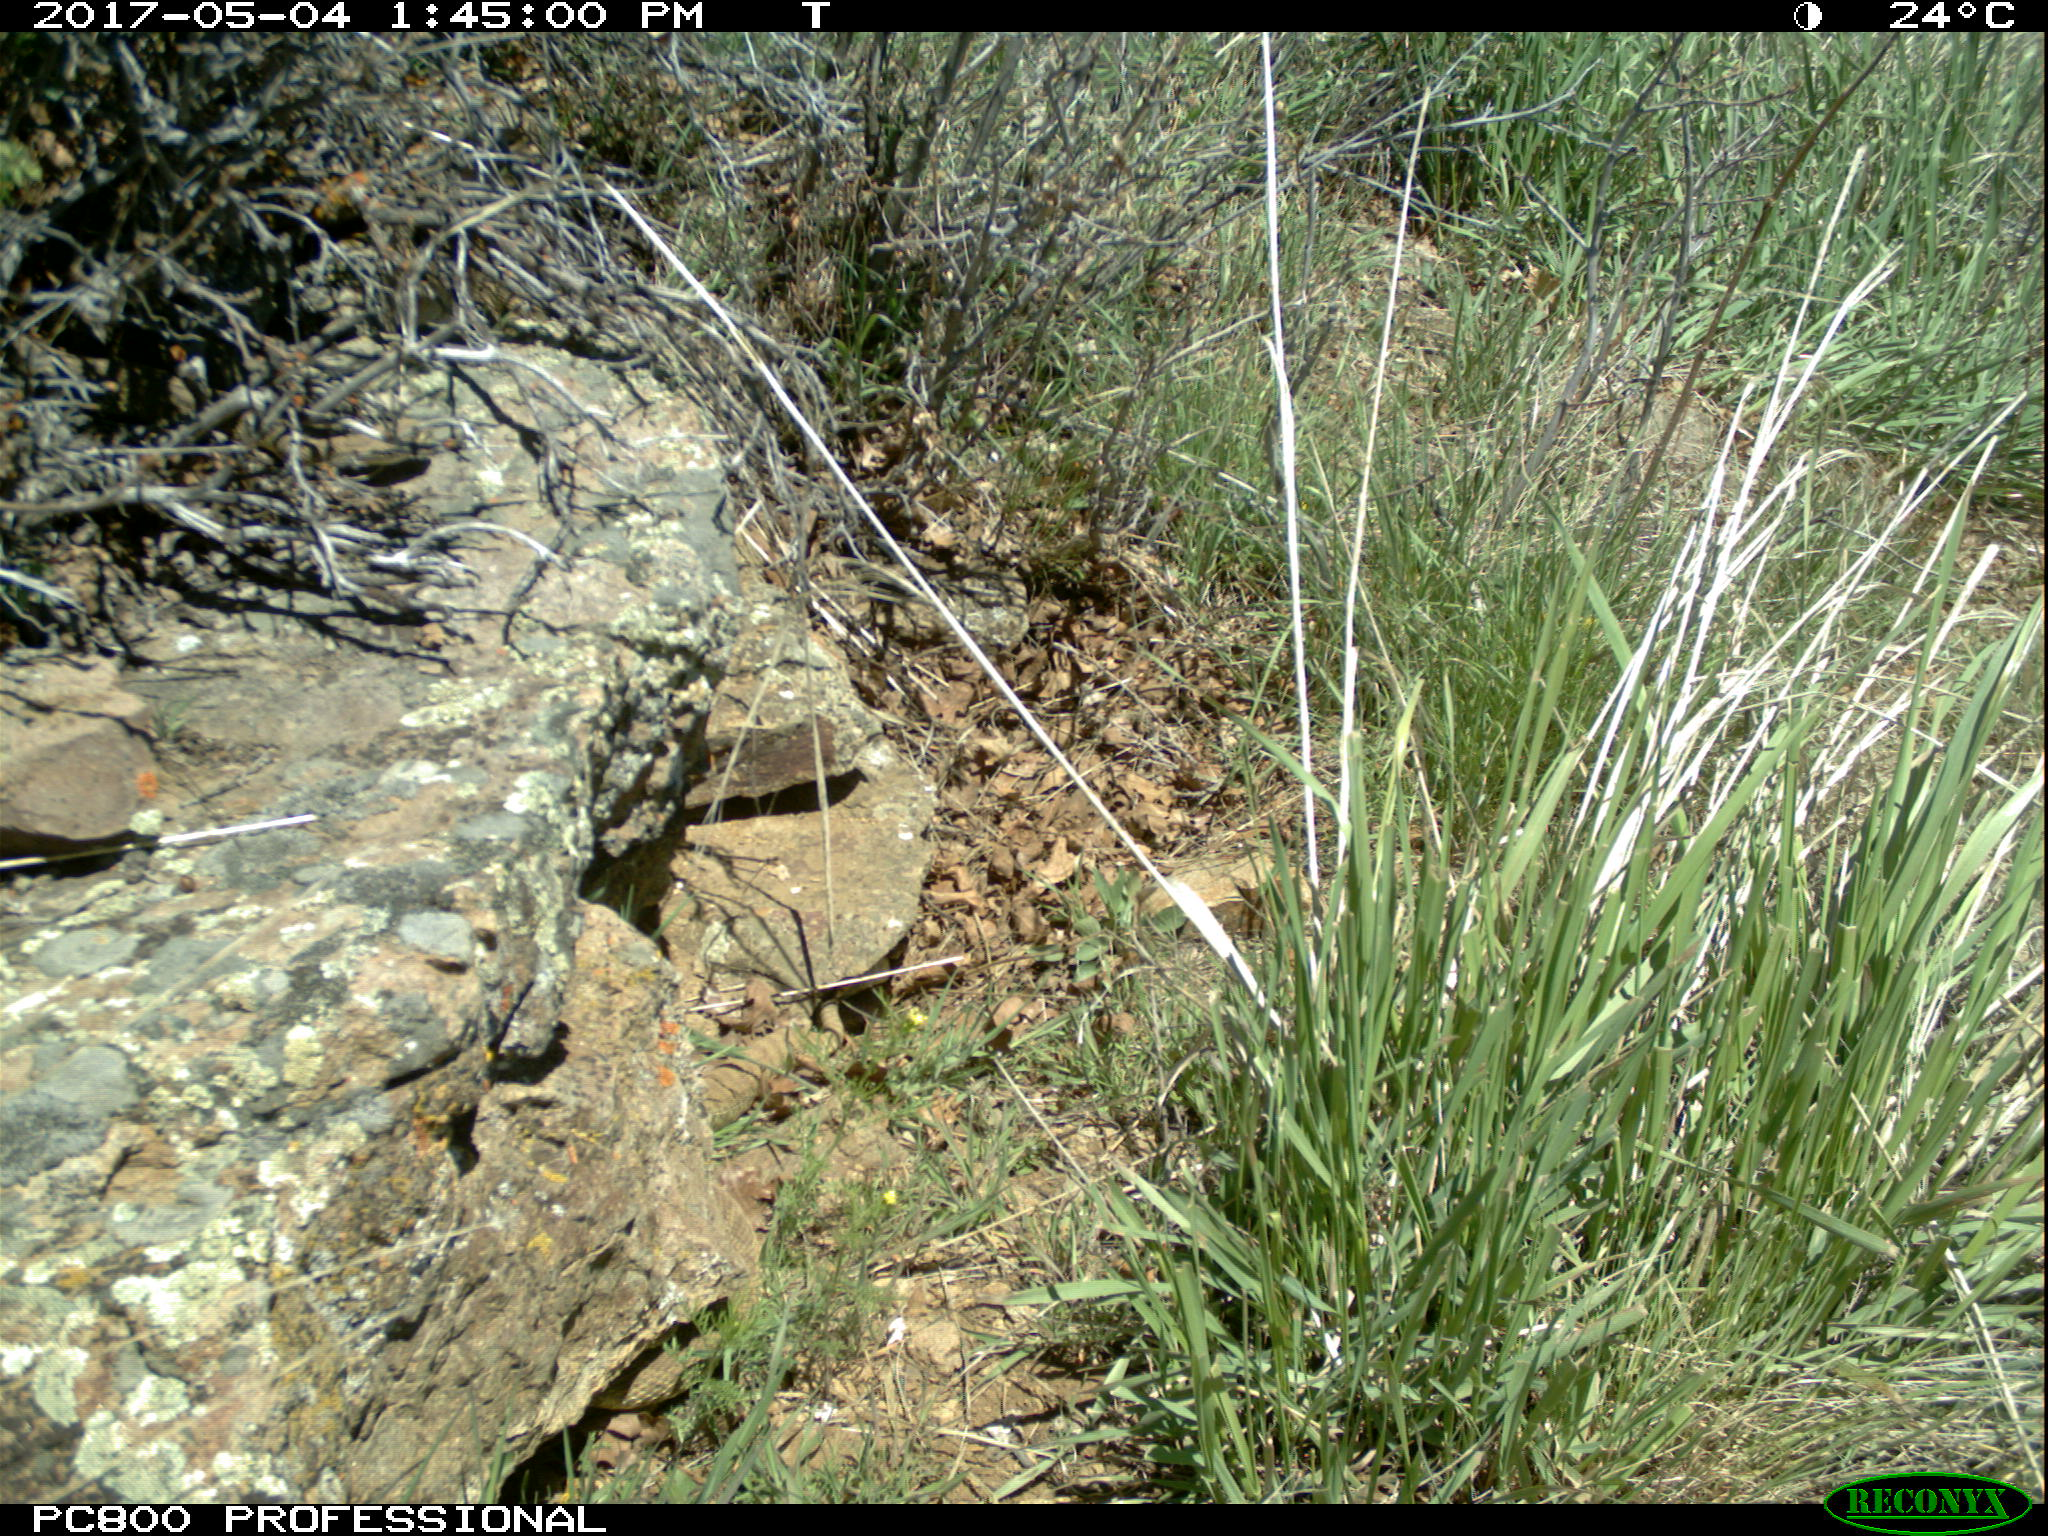snake: (685, 986, 803, 1128)
